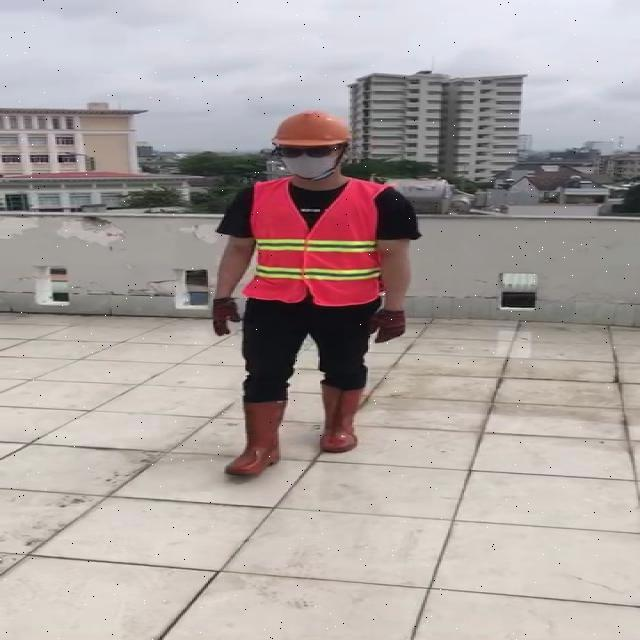Hard_hat: (268, 112, 354, 151)
Person: (202, 80, 433, 504)
Vest: (244, 172, 384, 305)
